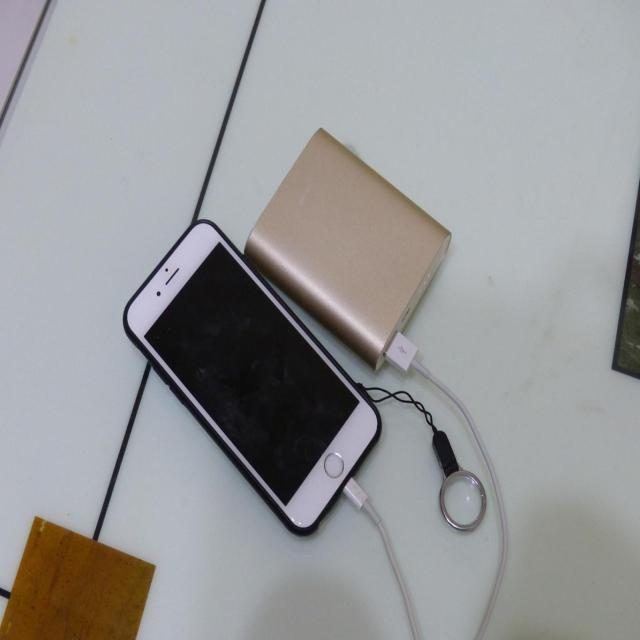Phone: (109, 213, 403, 538)
